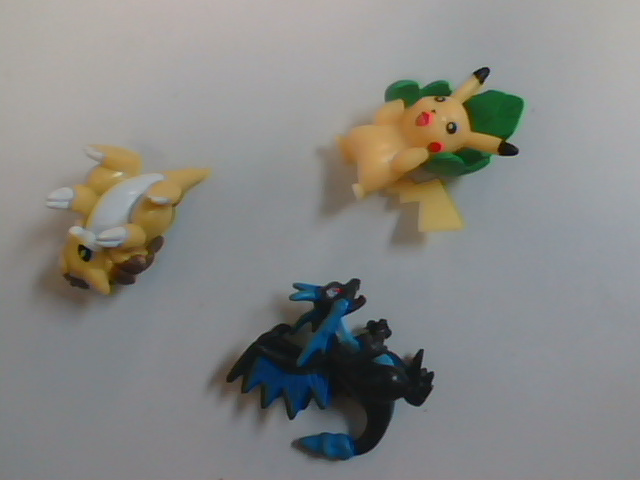charizard: (225, 286, 451, 480)
pikachu: (336, 53, 540, 260)
sandslash: (33, 141, 215, 336)
